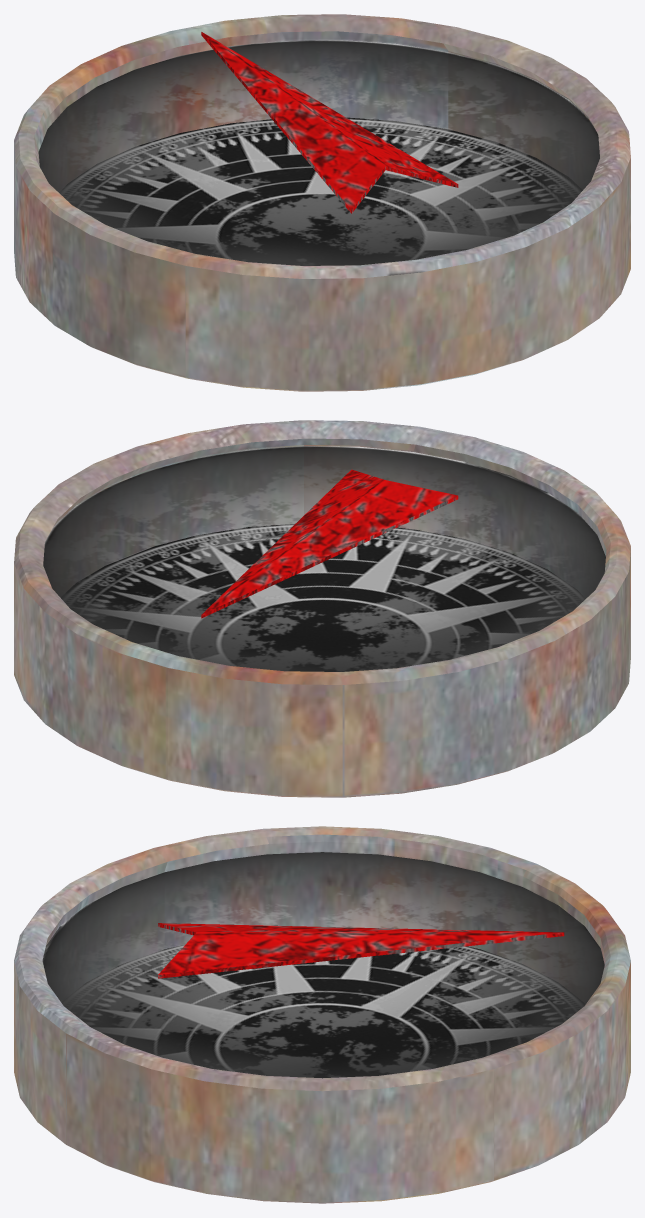
The model's file is compass.glb.
3 views of the same model, one above another, from view 1: azimuth 30°, elevation 25°; view 2: azimuth 150°, elevation 25°; view 3: azimuth 270°, elevation 25° (orthographic).
Visible parts, largest first — view 1: case, Needle; view 2: case, Needle; view 3: case, Needle.
Part boxes in pixels (x1=…): case: x1=14, y1=14, x2=630, y2=391; Needle: x1=201, y1=32, x2=458, y2=213; case: x1=14, y1=420, x2=630, y2=797; Needle: x1=201, y1=469, x2=458, y2=618; case: x1=14, y1=826, x2=630, y2=1203; Needle: x1=158, y1=923, x2=564, y2=978.
Size of the model in its own units: 2 by 0.5109 by 2.
2 materials, 2 textured.
